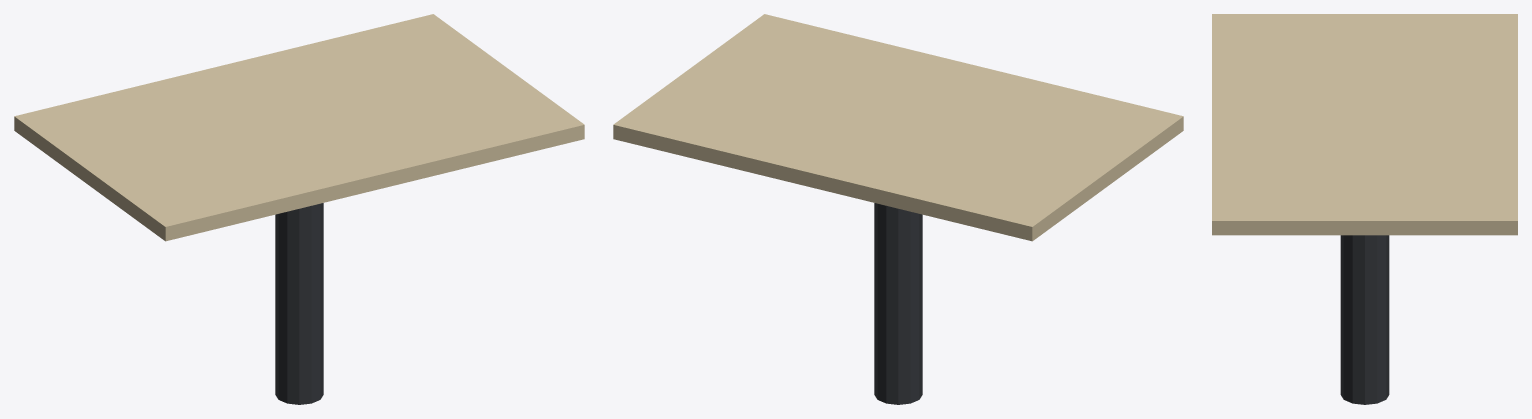
File: table_4top_30x48.glb
3 renders of one model, left to right at view 1: azimuth 30°, elevation 25°; view 2: azimuth 150°, elevation 25°; view 3: azimuth 270°, elevation 25°, orthographic.
Bounding box in the file's own units: 1.22 × 0.762 × 0.762.
